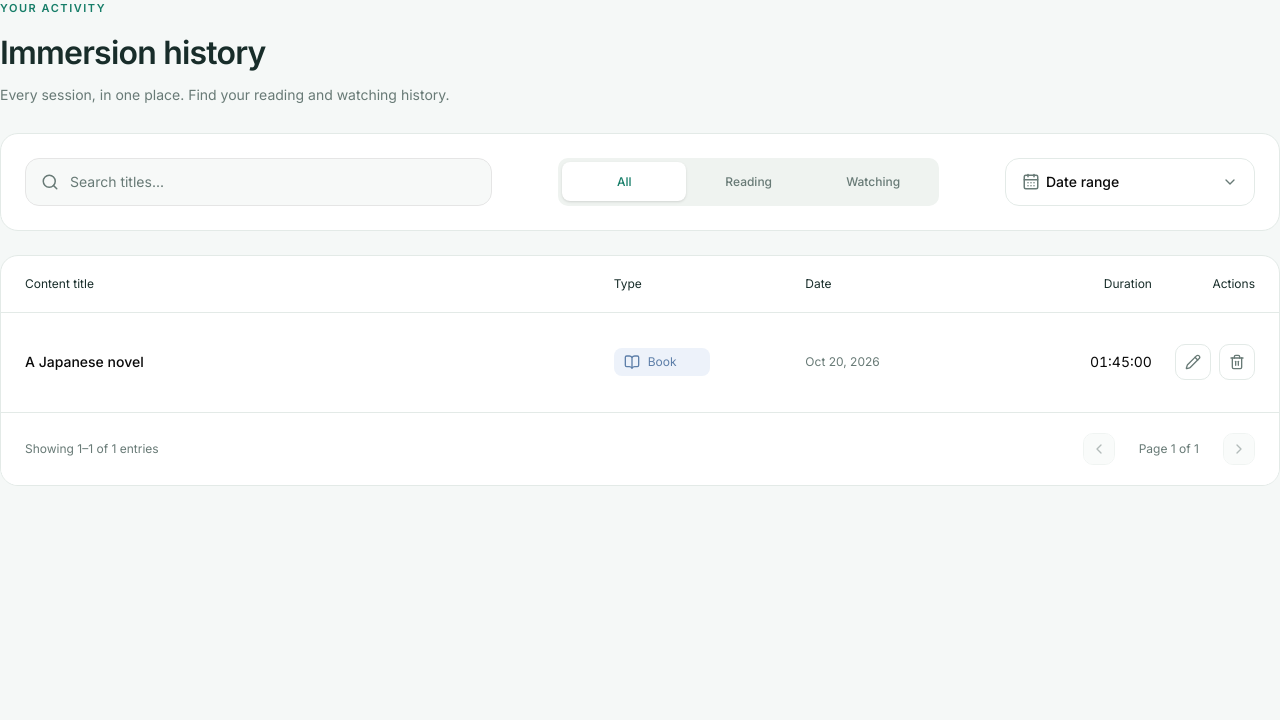
Test: History › edits a session and refreshes its displayed duration
Expected: the text "01:45:00" is shown, [1011, 312, 1164, 412]
Click the button named "Edit A Japanese novel". click: coordinates (1193, 362)
box: [1175, 344, 1211, 380]
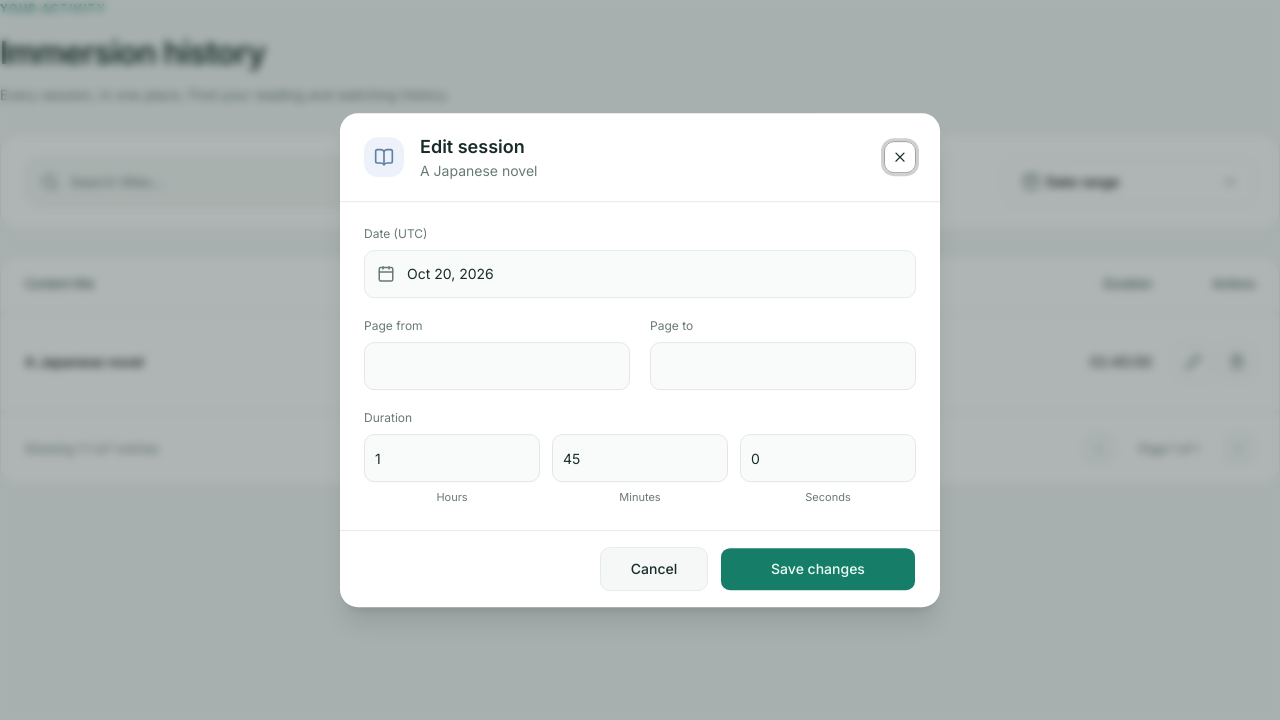
Expected: the dialog "Edit session" is shown, [340, 113, 940, 607]
Replace the text in the number field named "Hours" with "2". click: coordinates (452, 458)
box: [364, 434, 540, 482]
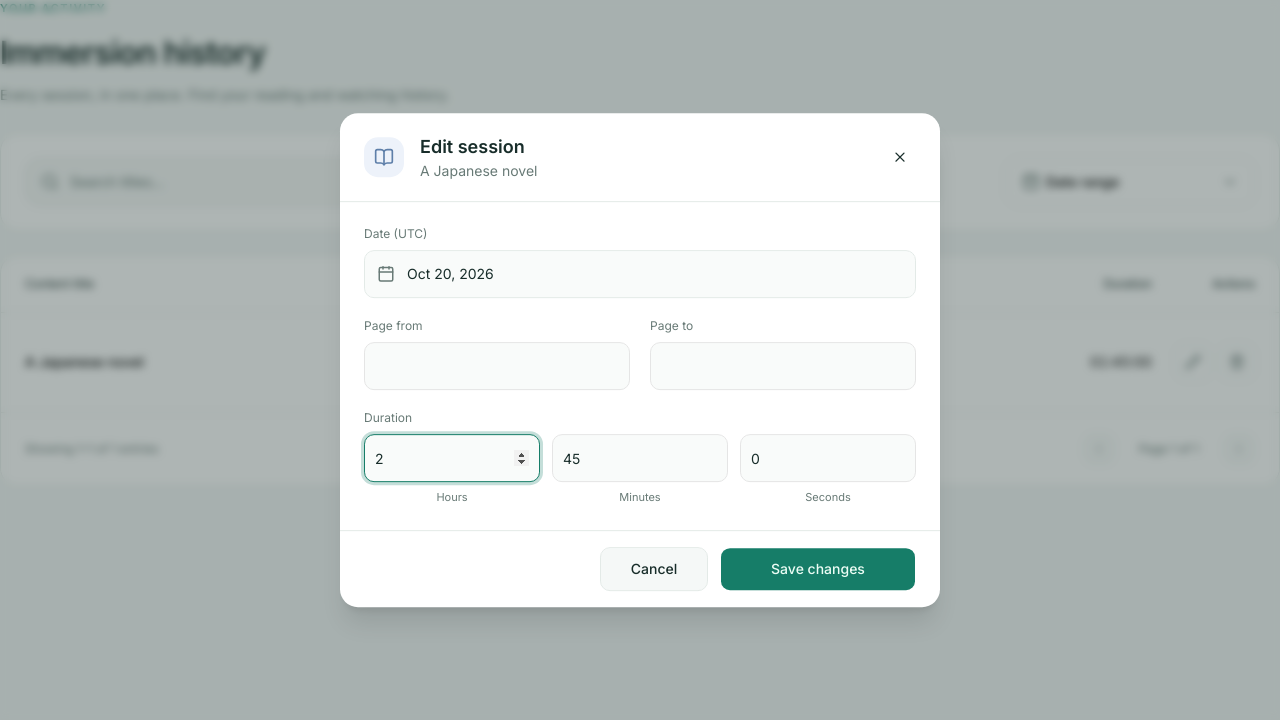
Replace the text in the number field named "Minutes" with "0". click: coordinates (640, 458)
box: [552, 434, 728, 482]
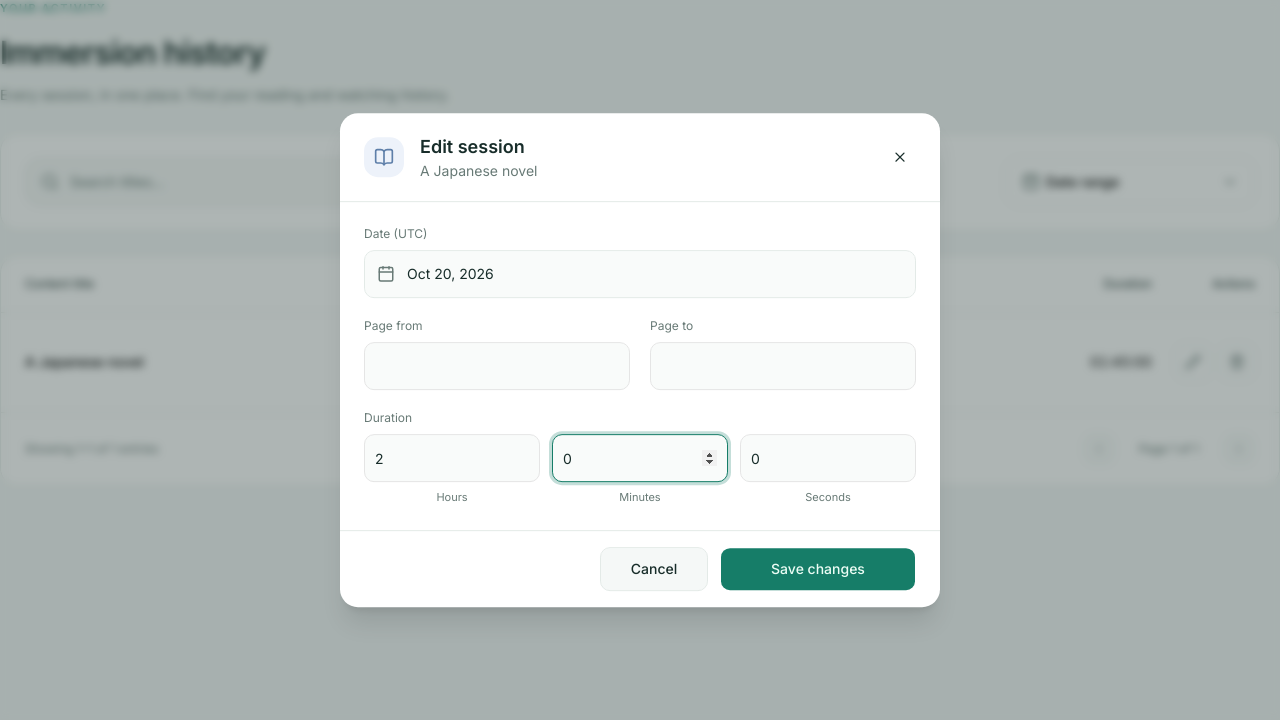
Click the button "Save changes". click: coordinates (818, 569)
box: [720, 547, 916, 591]
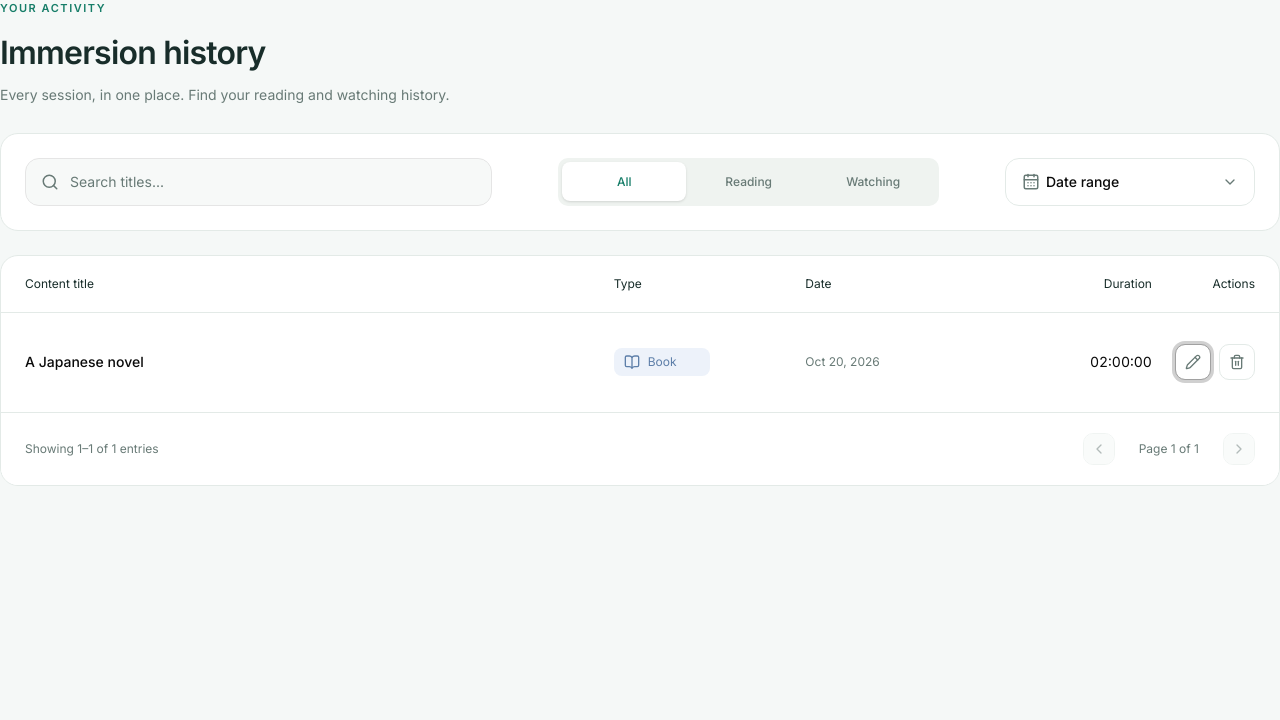
Expected: the text "02:00:00" is shown, [1011, 312, 1164, 412]
